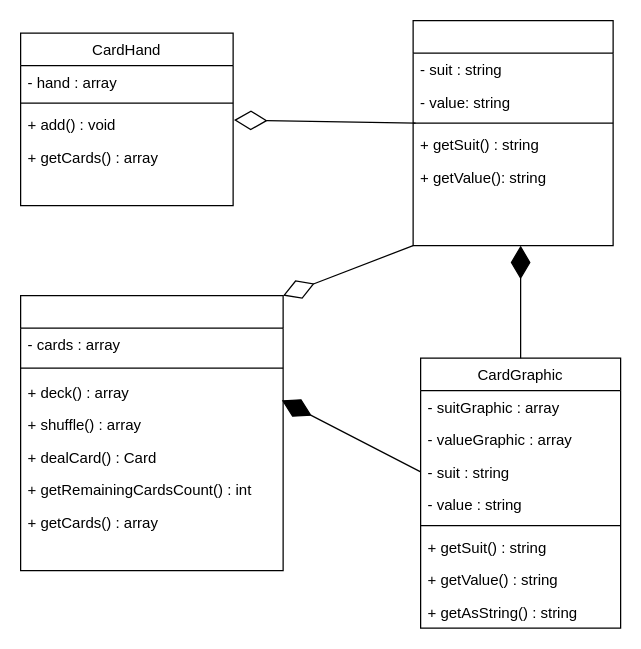
Some shapes in this 641 by 649 pixel diagram are drawn without their labels. The box of each missing label's shape, as (x1, y1, x2, y2) in pixels:
Card: (412, 19, 613, 246)
DeckOfCards: (19, 294, 283, 571)
